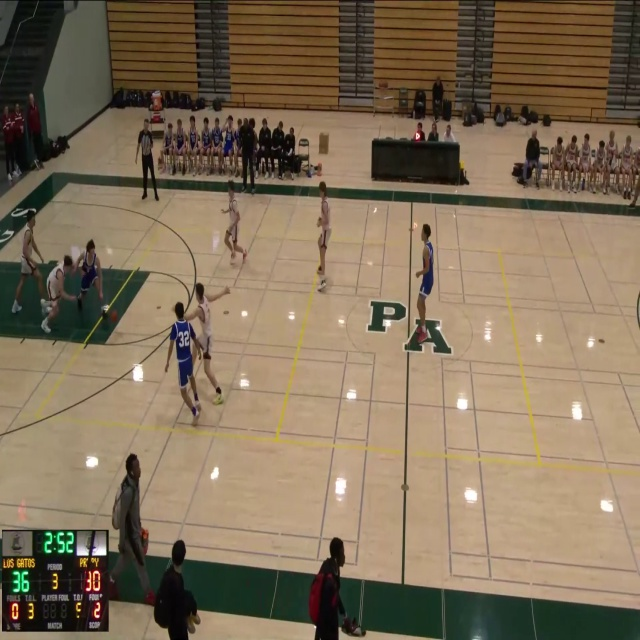Basketball: (109, 310, 118, 321)
